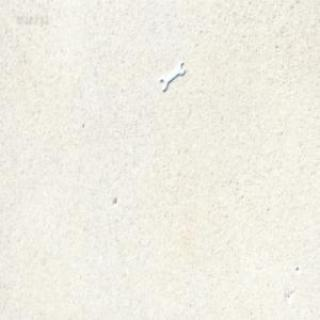Wrenchtrack_idkeyframe: (159, 59, 184, 92)
